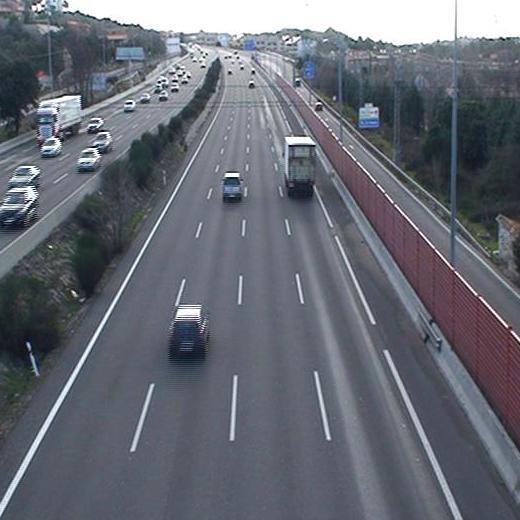car: (164, 299, 212, 358), (220, 171, 246, 202)
truck: (281, 132, 321, 195)
